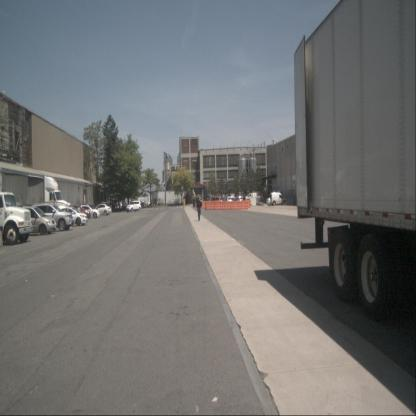human-pedestrian-adult: (195, 194, 203, 221)
movable_object-barrier: (201, 201, 212, 209), (205, 202, 215, 210), (214, 202, 224, 210), (230, 201, 241, 208), (212, 201, 222, 208), (240, 201, 250, 208), (225, 202, 233, 210), (222, 201, 230, 208), (241, 202, 248, 209), (233, 202, 240, 209)
vehicle-car: (10, 206, 57, 235), (30, 204, 75, 231), (54, 207, 88, 226), (67, 204, 90, 219), (91, 203, 112, 217), (80, 204, 100, 218), (270, 192, 286, 206), (126, 201, 142, 212), (210, 196, 226, 206), (266, 196, 280, 206), (226, 196, 238, 204), (233, 196, 244, 204), (246, 193, 257, 201), (147, 200, 157, 207)
vehicle-truck: (0, 191, 32, 246), (44, 174, 71, 231)
